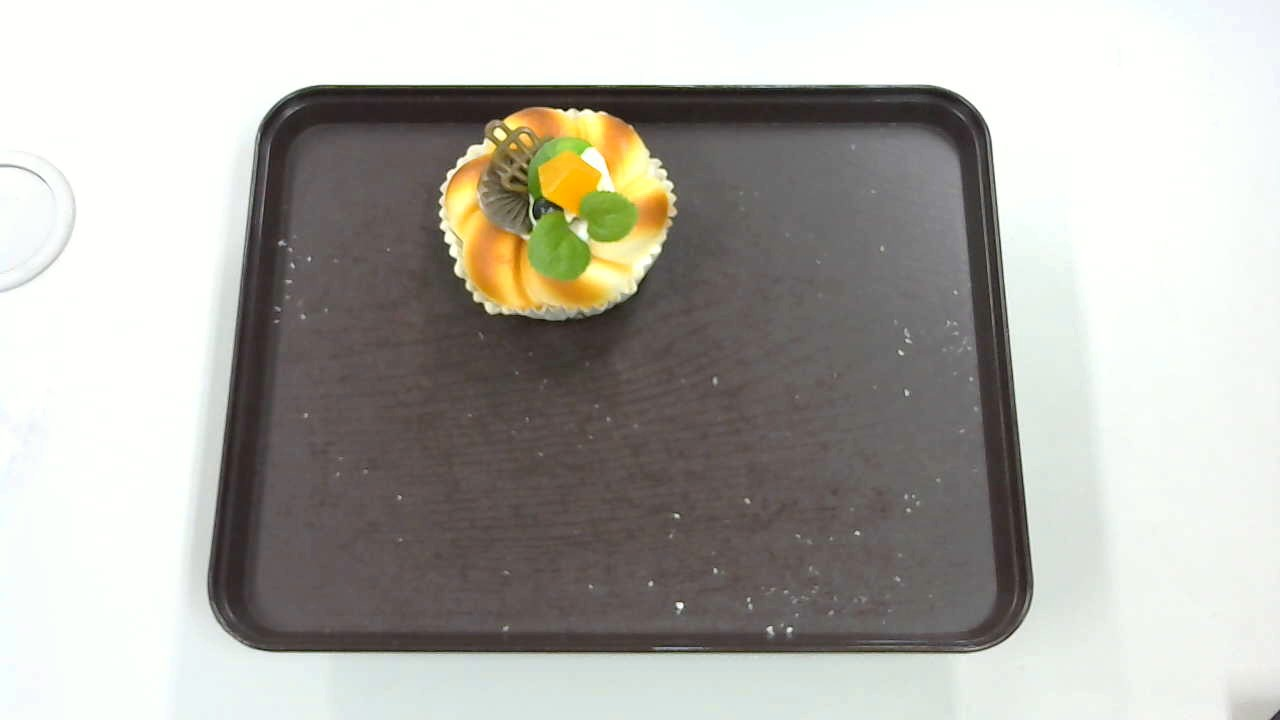fruit tart: (438, 108, 679, 319)
